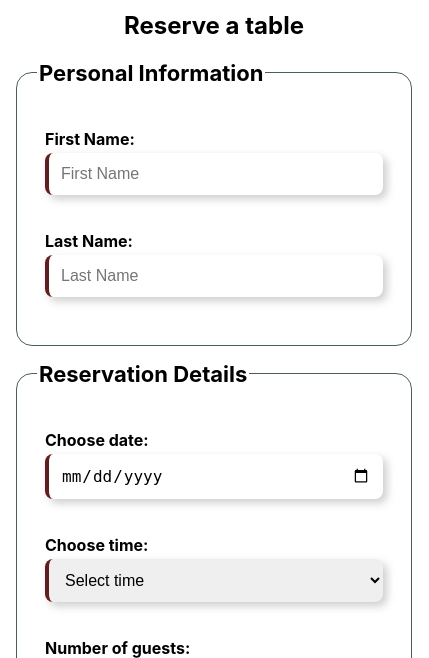
Test: Error fields › show error when no time is selected
Select "Select time" in the dropdown labelled "Choose time:": x=214, y=580 [45,559,383,602]
Leave the dropdown labelled "Choose time:", box [45,559,383,602]
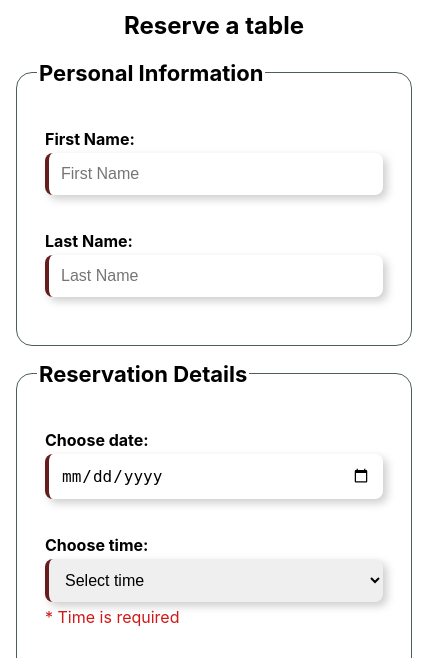
Result: the text "* Time is required" is shown at [45,607,180,627]
